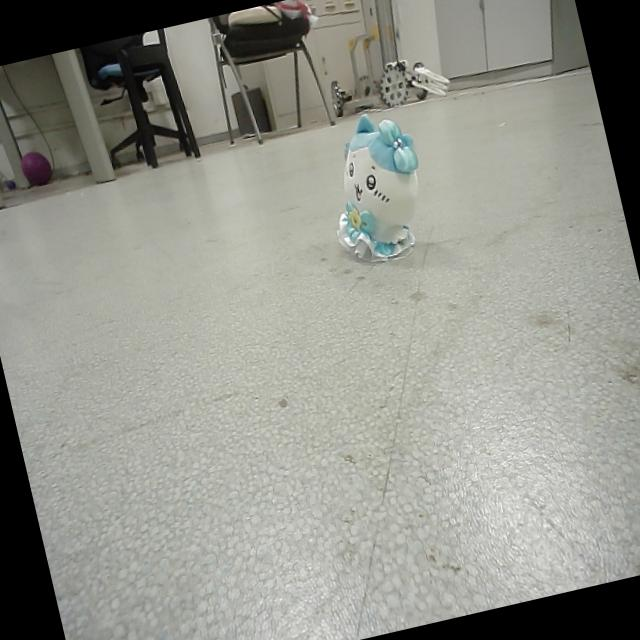xiaoba: (316, 104, 440, 274)
